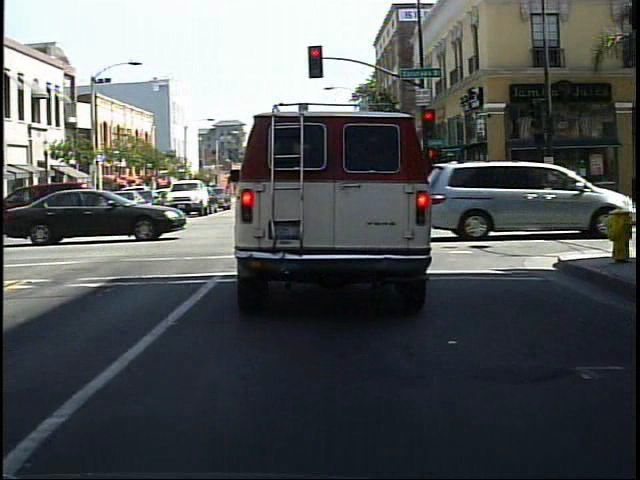person: (531, 158, 551, 210), (511, 166, 531, 210)
